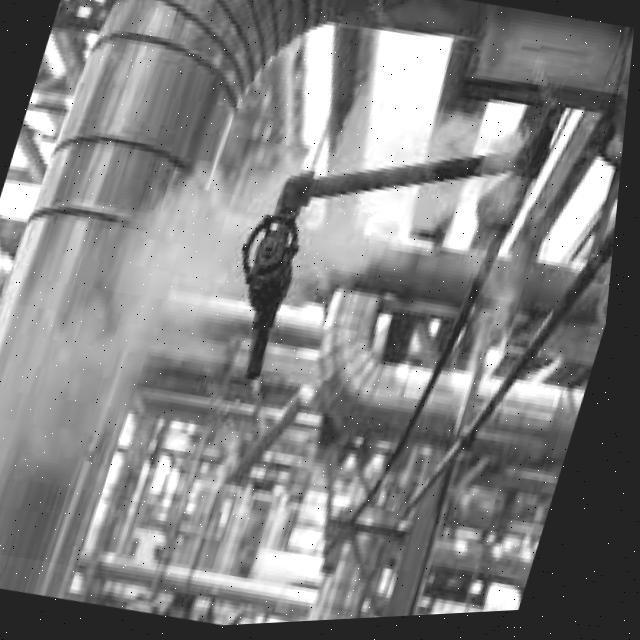corrosion: (121, 106, 410, 428)
